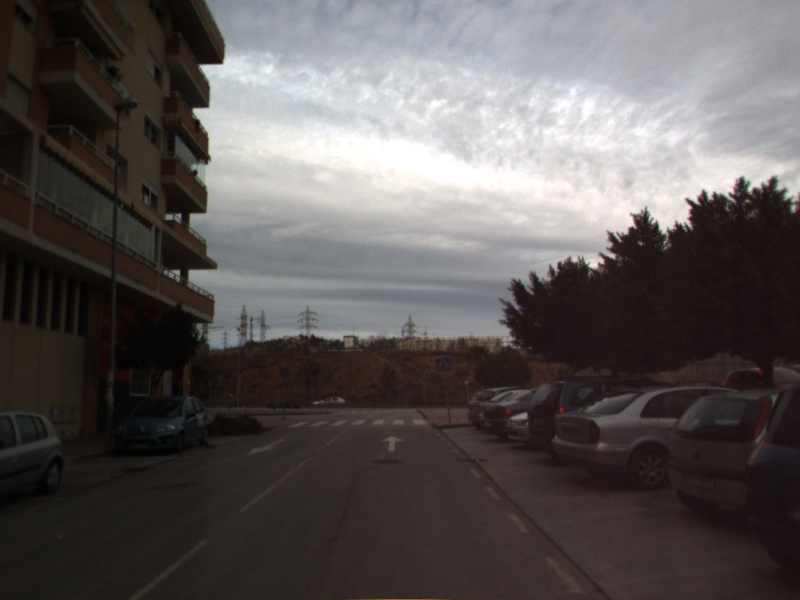STRAIGHT: (380, 433, 406, 453)
